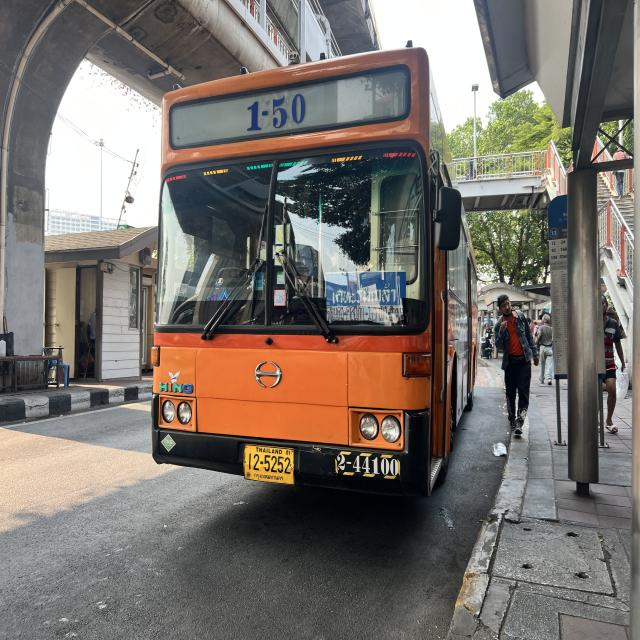BMTA-bus: (150, 45, 478, 500)
Bus-Line-Number: (243, 88, 313, 140)
Destination-Sign-Normal: (326, 272, 406, 324)
